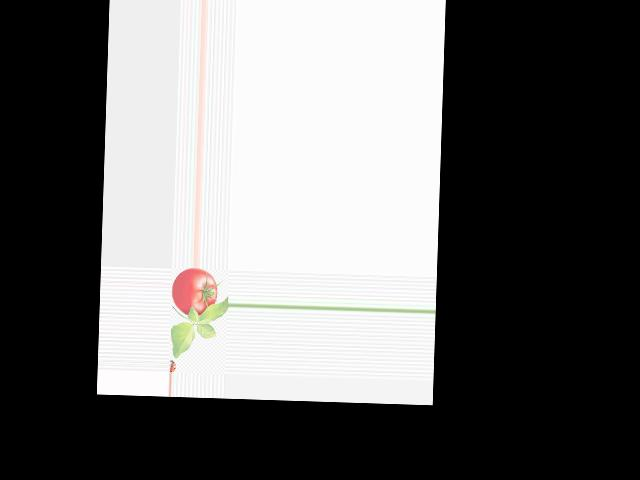tomato: (170, 267, 217, 316)
